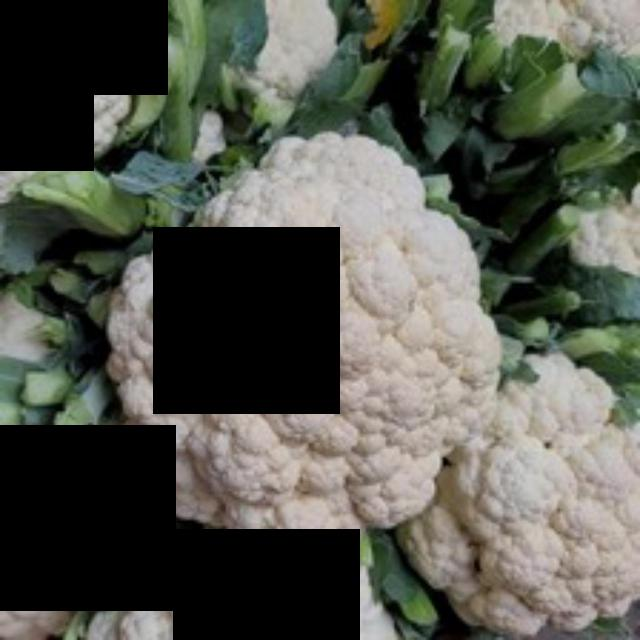cauliflower: (102, 121, 540, 592)
